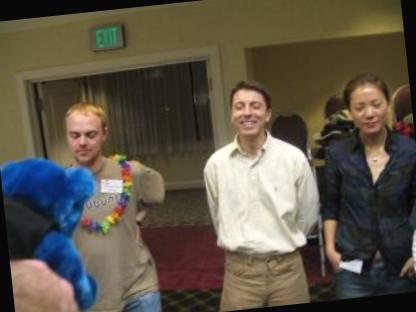person: (187, 67, 332, 312), (43, 89, 179, 312), (304, 65, 416, 300)
